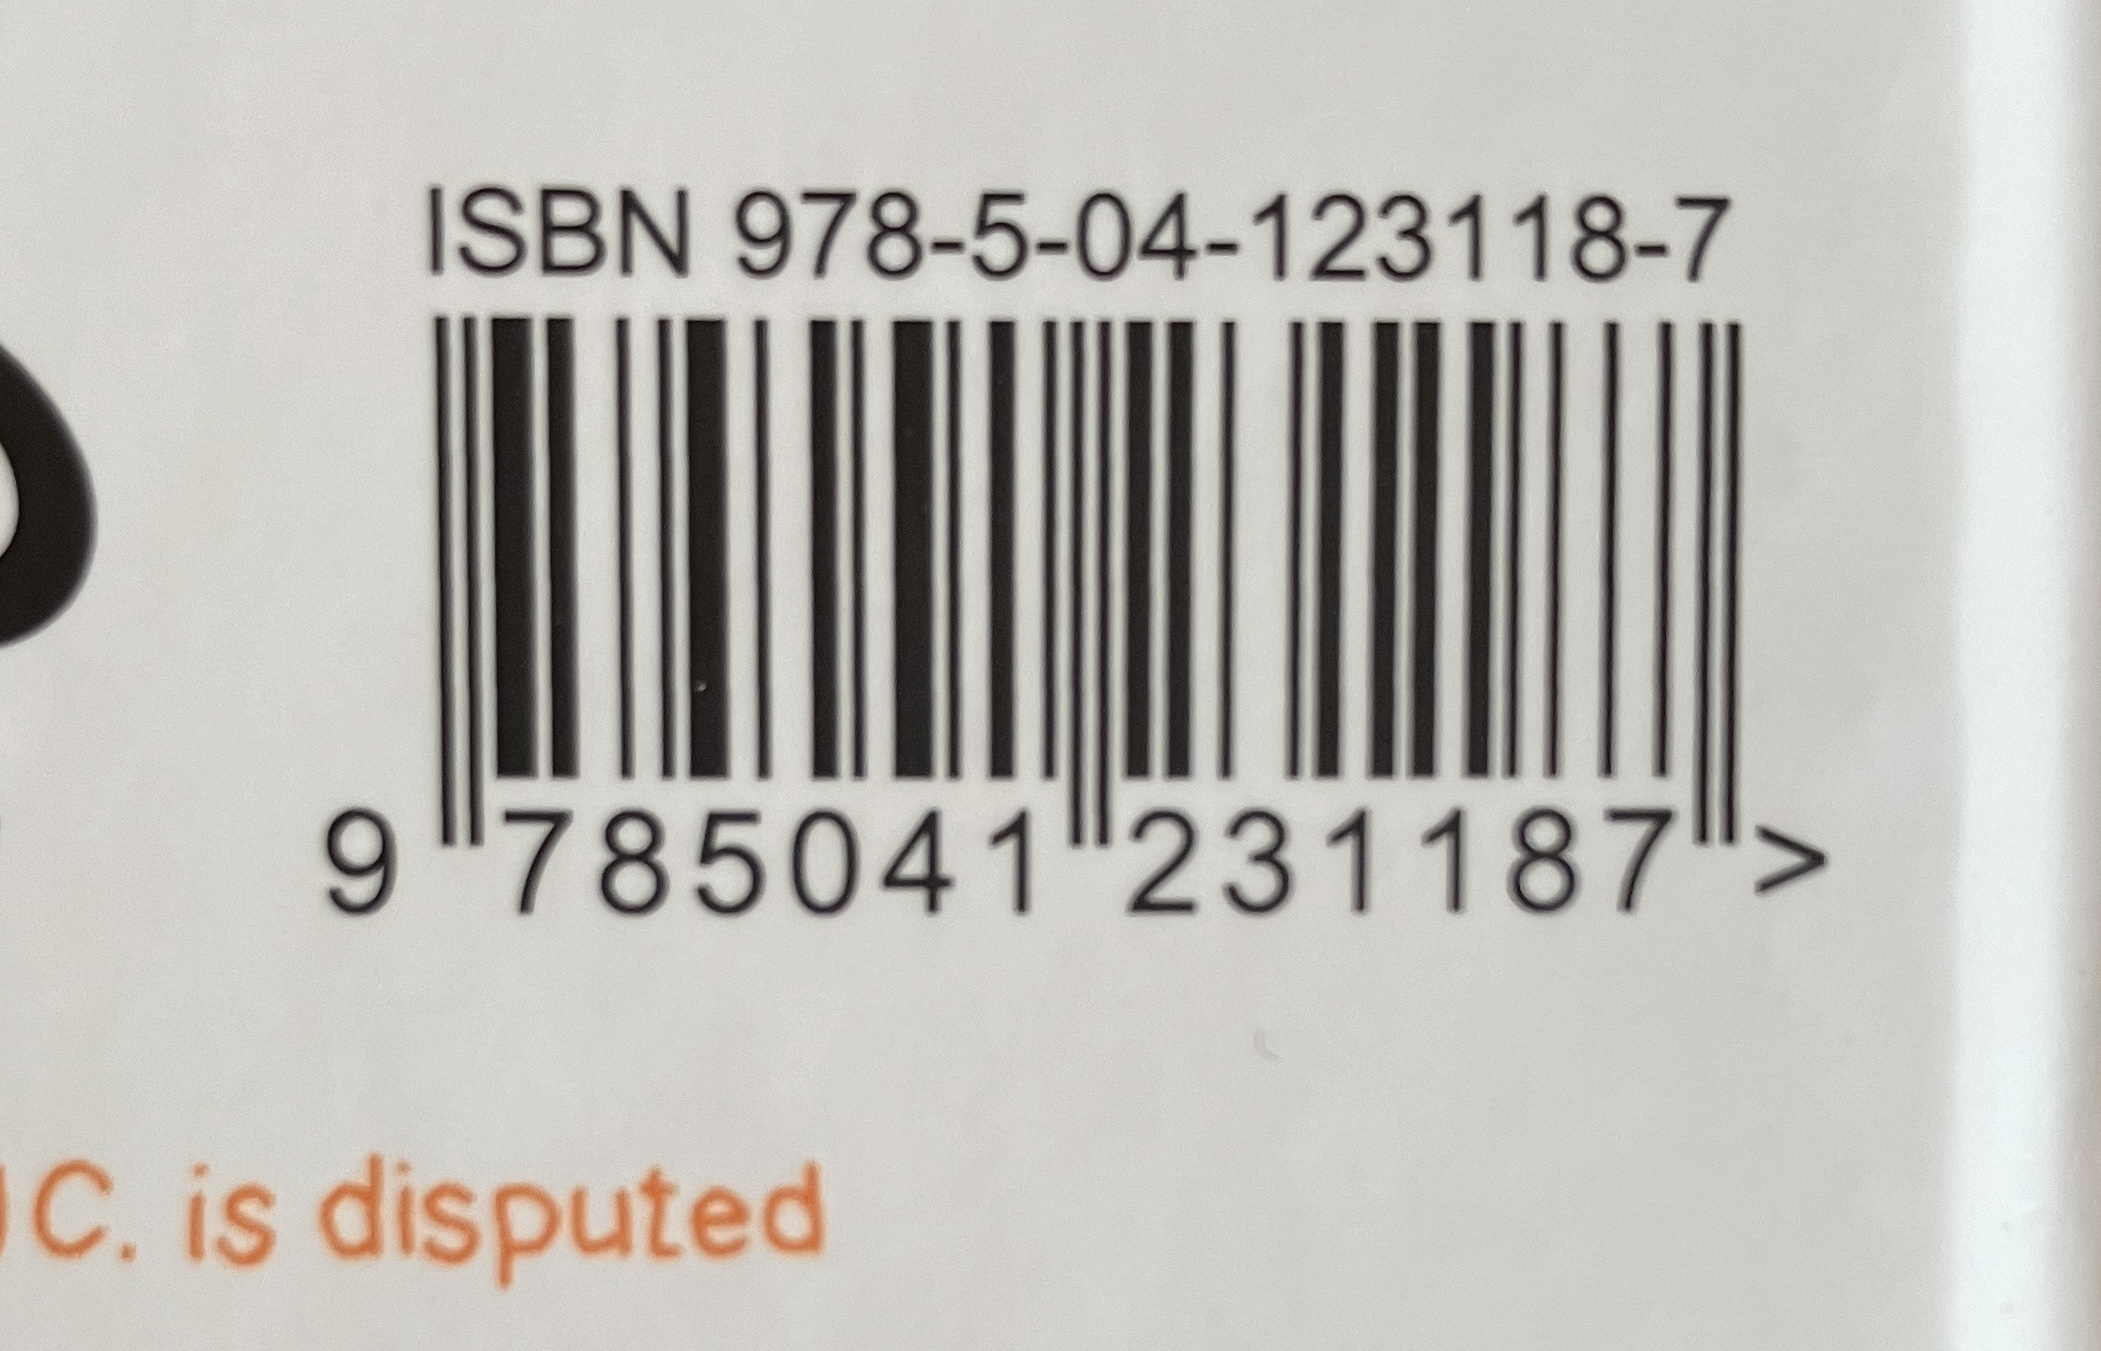1d: (430, 316, 1740, 849)
